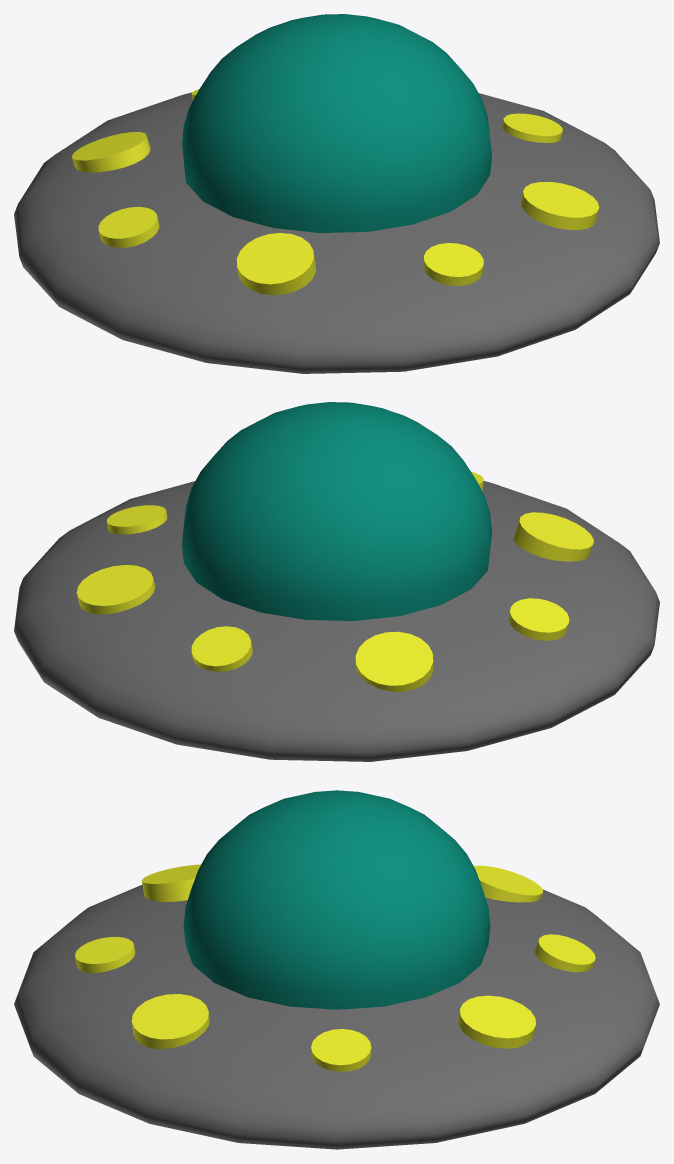
Rendered from Ufo_BulletHell_BPLW.fbx.
The picture shows the model from 3 angles, top to bottom: view 1: azimuth 30°, elevation 25°; view 2: azimuth 150°, elevation 25°; view 3: azimuth 270°, elevation 25°; orthographic projection.
Parts seen in each view (by area): view 1: pSphere5, pCylinder5, pCylinder7, pCylinder8, pCylinder4, pCylinder3, pCylinder9; view 2: pSphere5, pCylinder8, pCylinder6, pCylinder5, pCylinder1, pCylinder3, pCylinder9; view 3: pSphere5, pCylinder7, pCylinder6, pCylinder9, pCylinder8, pCylinder1, pCylinder4, pCylinder5.
Part boxes in pixels (<box>): pSphere5: <box>14,14,659,373</box>; pCylinder5: <box>236,233,315,295</box>; pCylinder7: <box>520,182,599,229</box>; pCylinder8: <box>72,132,150,172</box>; pCylinder4: <box>423,243,483,285</box>; pCylinder3: <box>98,207,159,247</box>; pCylinder9: <box>502,113,562,142</box>; pSphere5: <box>14,402,659,761</box>; pCylinder8: <box>355,631,433,691</box>; pCylinder6: <box>76,565,155,614</box>; pCylinder5: <box>513,512,593,561</box>; pCylinder1: <box>191,626,252,671</box>; pCylinder3: <box>508,598,569,640</box>; pCylinder9: <box>106,505,167,534</box>; pSphere5: <box>14,790,659,1149</box>; pCylinder7: <box>131,994,209,1049</box>; pCylinder6: <box>458,995,536,1048</box>; pCylinder9: <box>311,1029,371,1071</box>; pCylinder8: <box>473,865,542,902</box>; pCylinder1: <box>534,934,595,972</box>; pCylinder4: <box>75,936,135,972</box>; pCylinder5: <box>141,864,200,901</box>.
Size of the model in its own units: 5.32 by 2.33 by 5.32.
1 material, 1 textured.
